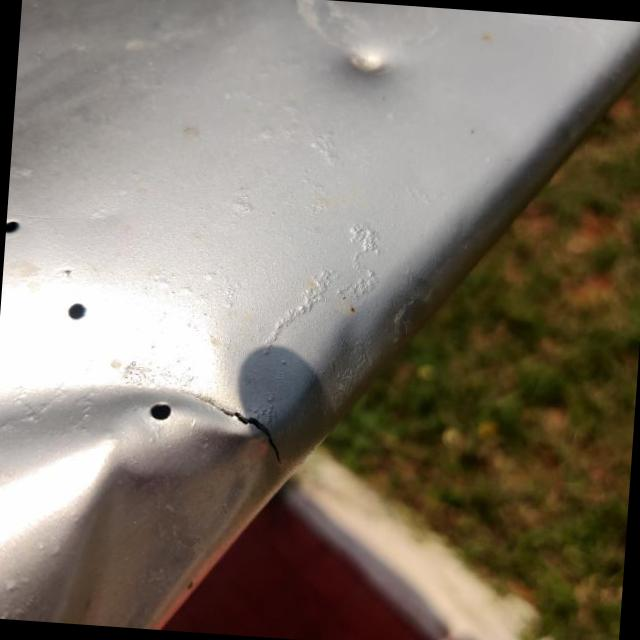Crack: (215, 407, 280, 463)
Dent: (0, 386, 283, 628), (292, 11, 432, 85)
